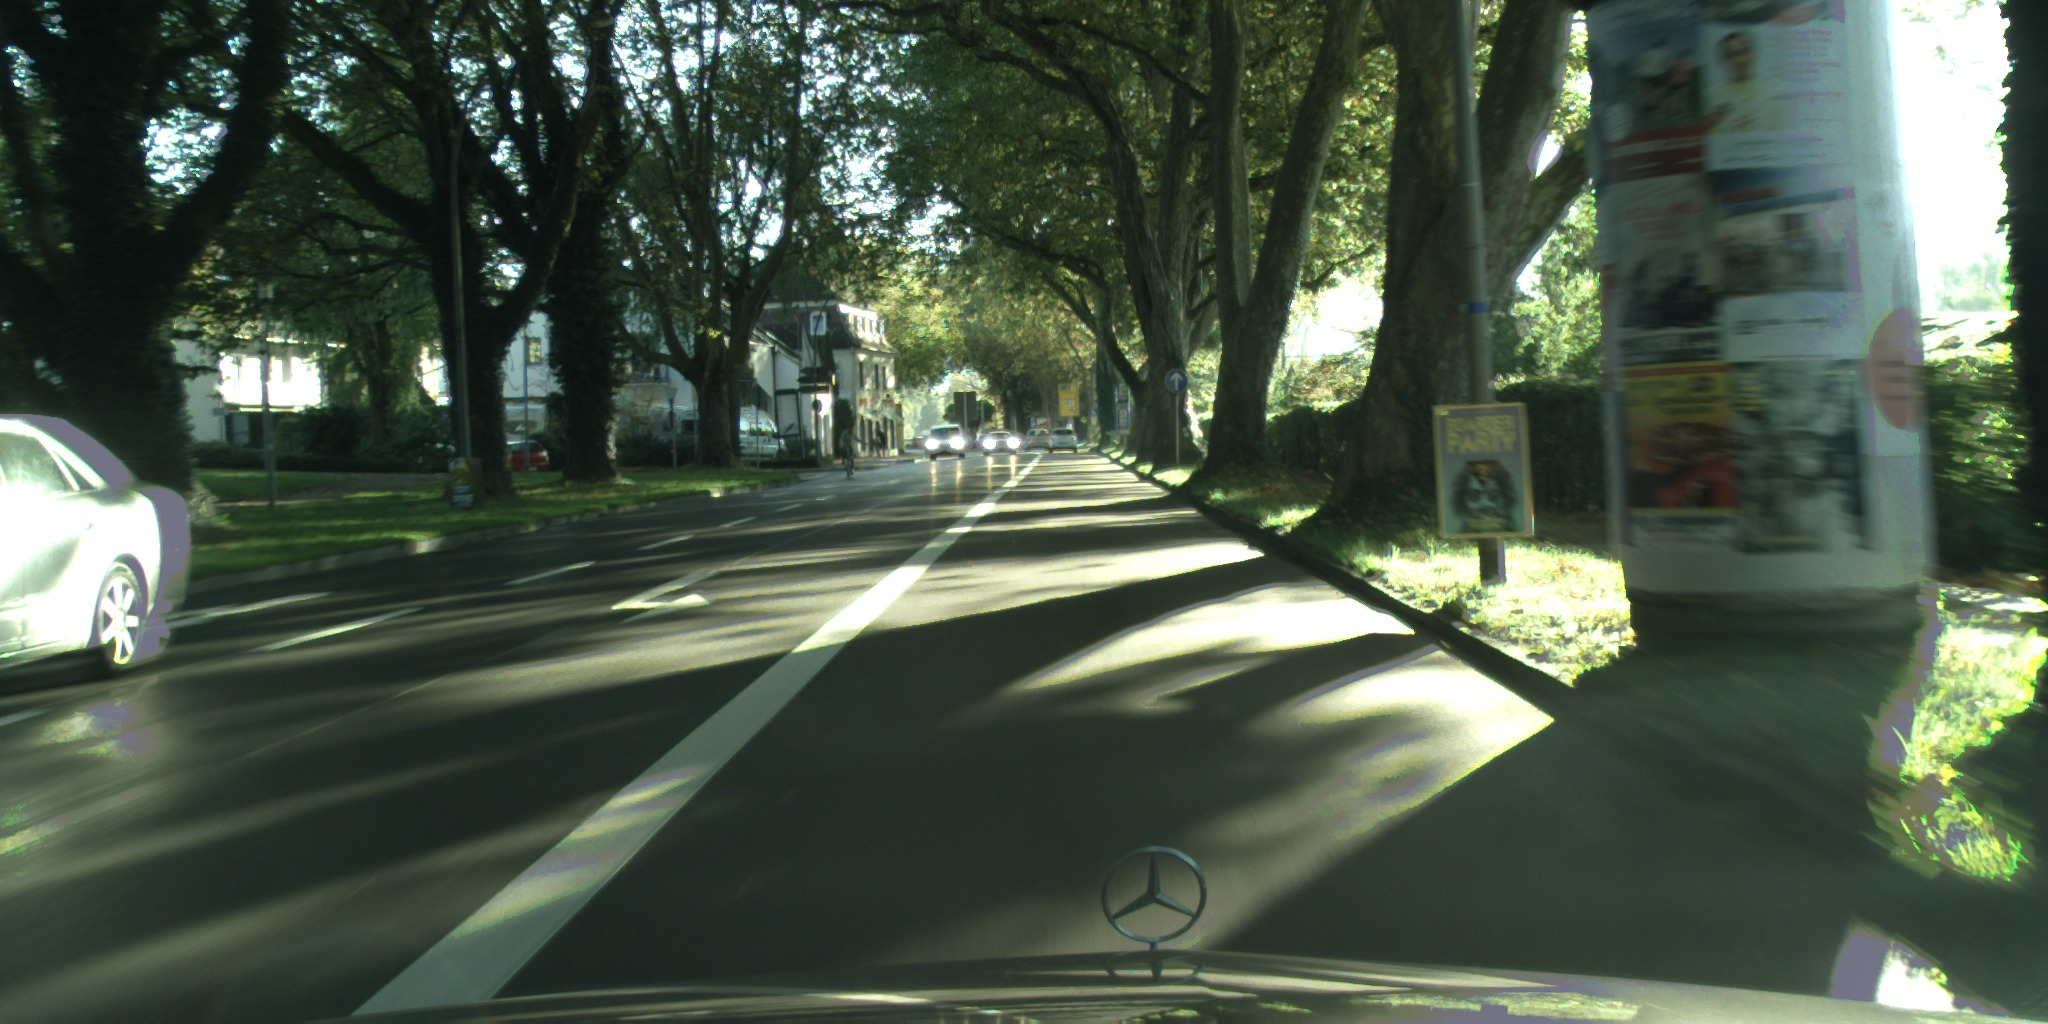bicycle: (839, 451, 853, 478)
car: (0, 412, 192, 678), (677, 409, 789, 462), (505, 441, 553, 474), (925, 423, 966, 460), (982, 431, 1020, 456), (1047, 427, 1078, 454), (1021, 428, 1051, 452)
rider: (839, 424, 855, 473)
